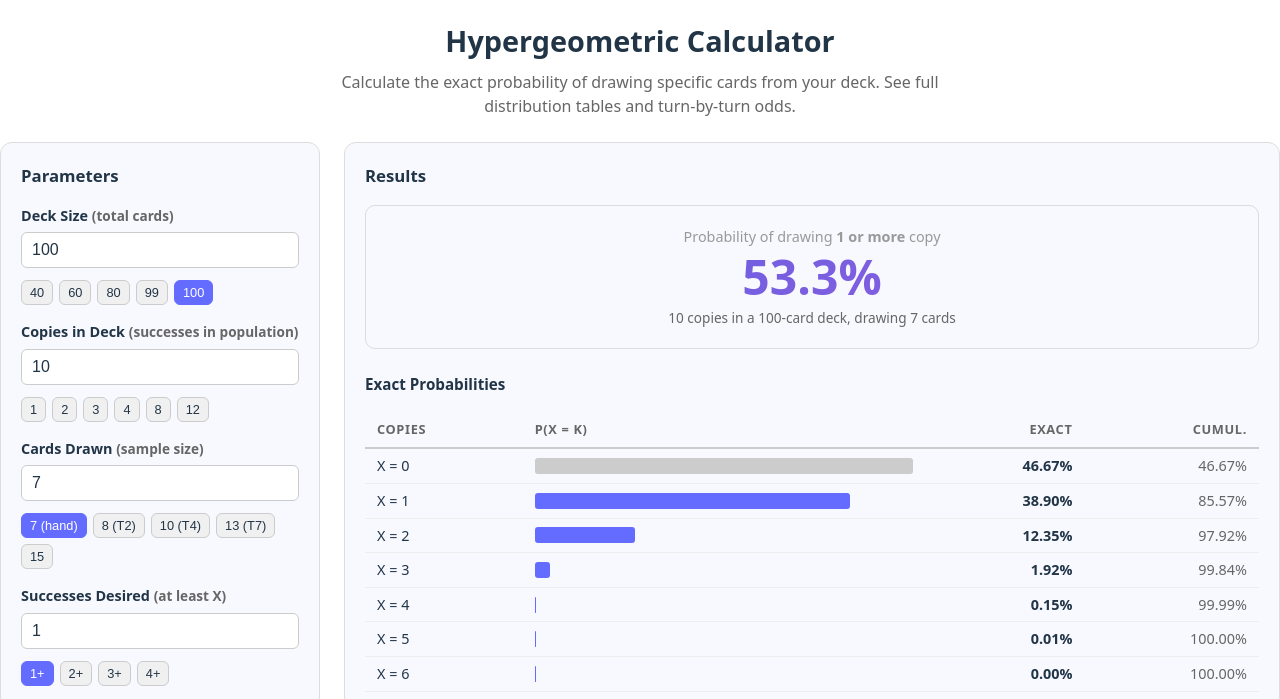
Test: HypergeometricCalculator › recomputes live as inputs change
Replace the text in the number field labelled "Copies in Deck (successes in population)" with "9" at (160, 367), box top-left (21, 349), bottom-right (299, 385)
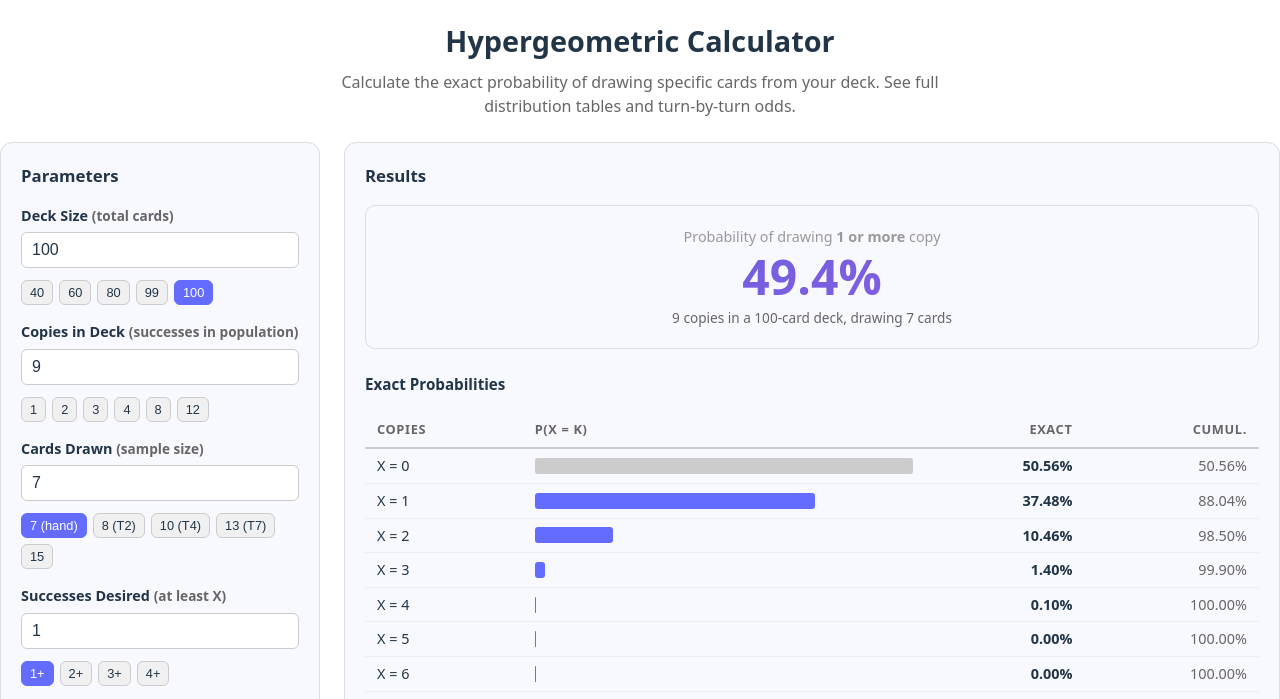
Replace the text in the number field labelled "Cards Drawn (sample size)" with "9" at (160, 484), box top-left (21, 466), bottom-right (299, 502)
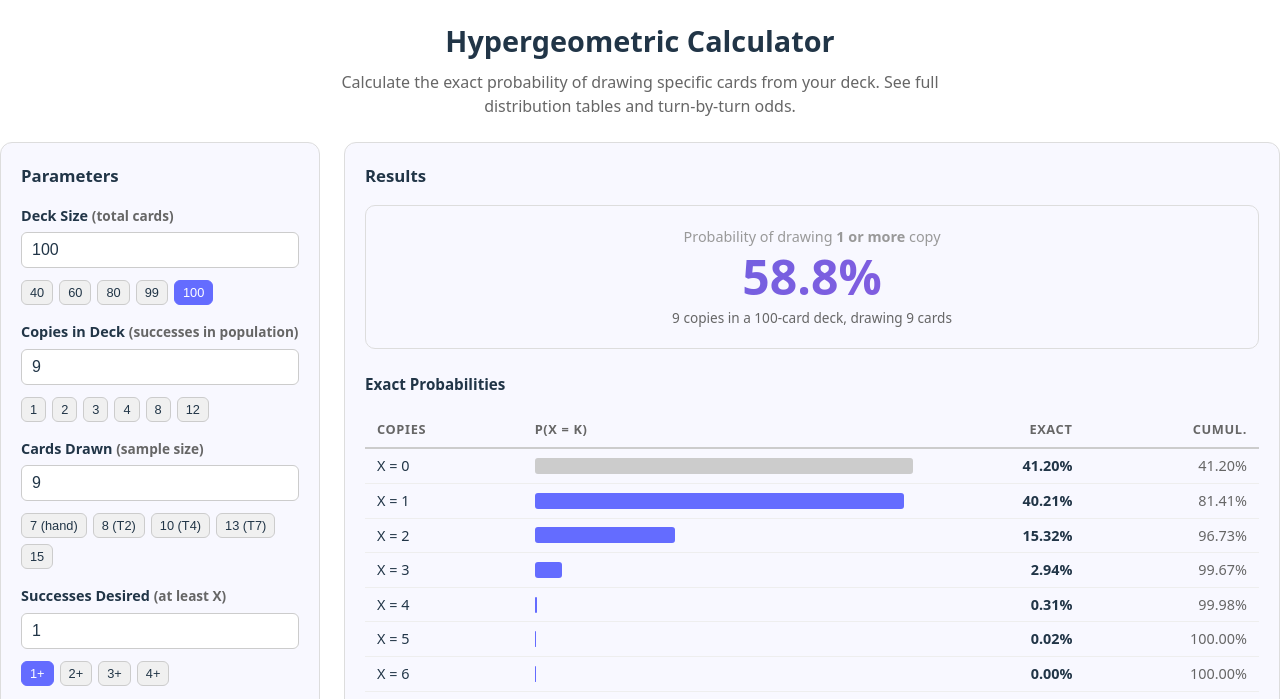
Expected: the text "58.8%" is shown, top-left (386, 251), bottom-right (1238, 304)
